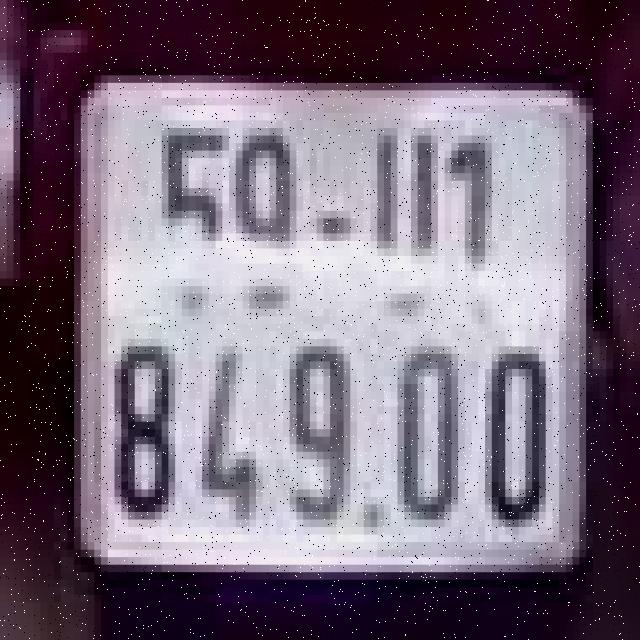0: (478, 327, 559, 531), (384, 339, 465, 527)
1: (448, 109, 509, 320)
4: (192, 331, 266, 527)
5: (145, 105, 232, 309)
8: (104, 320, 178, 523)
9: (229, 120, 310, 316), (280, 338, 354, 534)
U: (364, 113, 444, 324)
